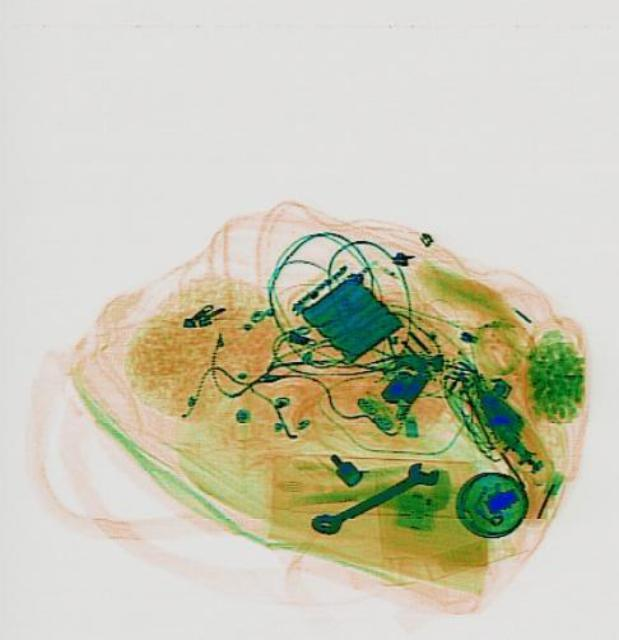Wrench: (304, 452, 445, 542)
